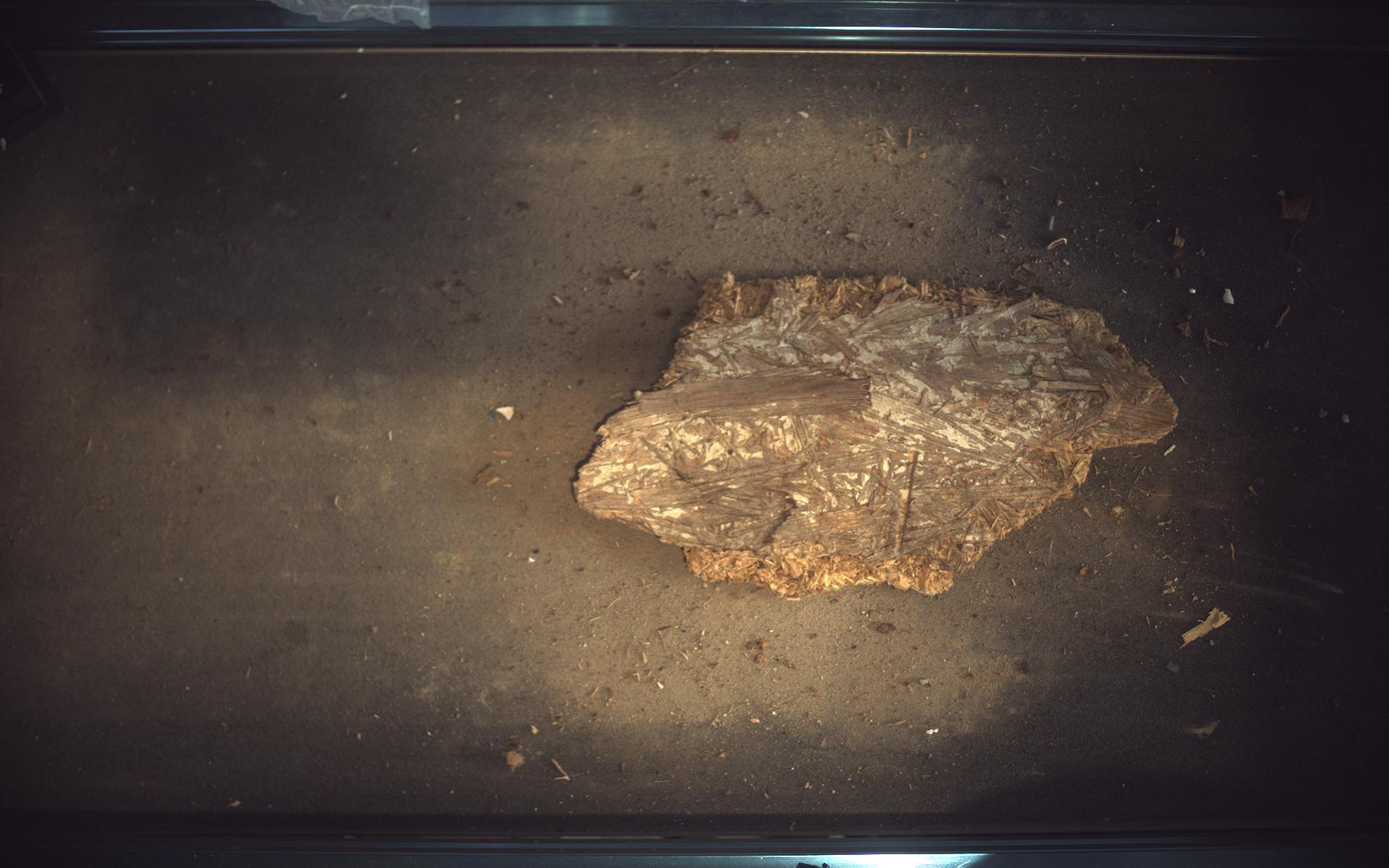wood: (574, 273, 1180, 596)
